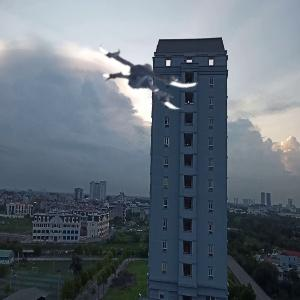drone: (98, 18, 202, 122)
